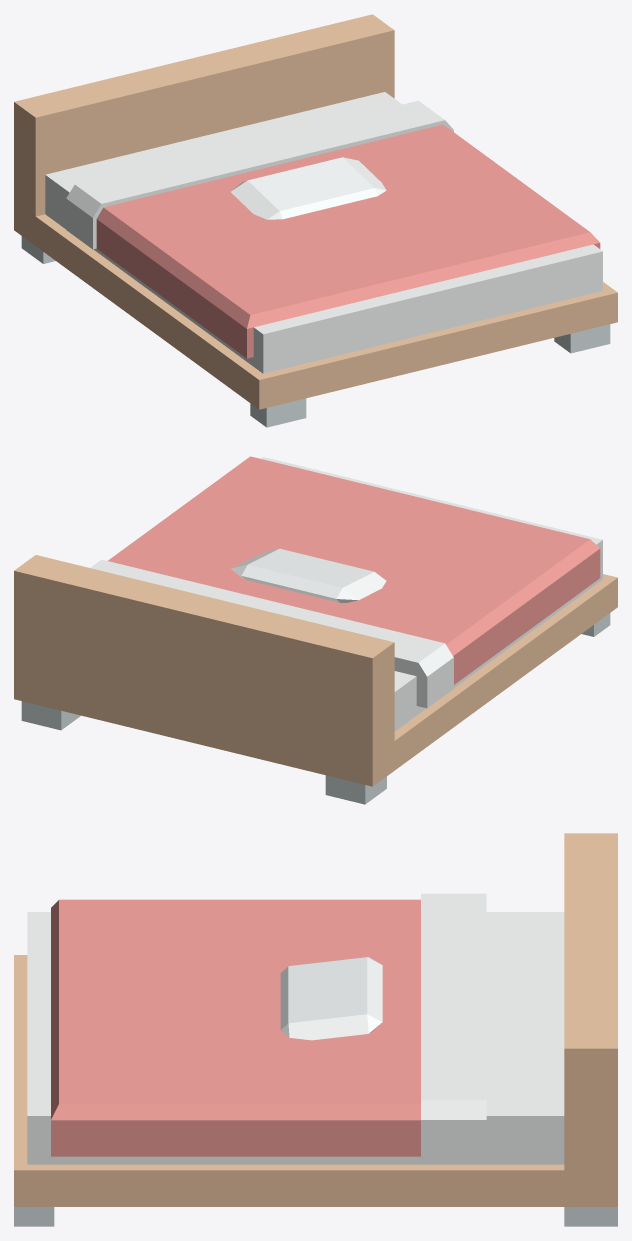
The model's file is bedDouble.glb.
The picture shows the model from 3 angles, top to bottom: view 1: azimuth 30°, elevation 25°; view 2: azimuth 150°, elevation 25°; view 3: azimuth 270°, elevation 25°; orthographic projection. The views are drawn at different scales.
Parts seen in each view (by area): view 1: bedDouble, bedDouble.001, bedDouble.002; view 2: bedDouble, bedDouble.001, bedDouble.002; view 3: bedDouble.001, bedDouble, bedDouble.002.
Part boxes in pixels (x1,y1,x2,y2): bedDouble: [14, 14, 617, 427]; bedDouble.001: [66, 100, 600, 358]; bedDouble.002: [231, 157, 386, 219]; bedDouble: [14, 457, 617, 804]; bedDouble.001: [90, 456, 600, 708]; bedDouble.002: [231, 548, 386, 602]; bedDouble.001: [51, 893, 486, 1158]; bedDouble: [14, 833, 617, 1226]; bedDouble.002: [280, 956, 382, 1040].
Size of the model in its own units: 2.77 by 1.09 by 3.26.
